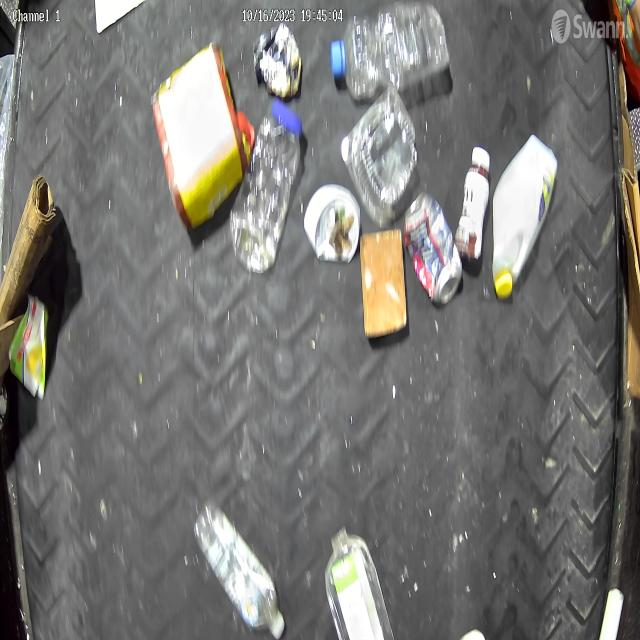can: (230, 102, 303, 274), (403, 190, 463, 306), (253, 22, 303, 100)
milk_jug: (492, 132, 558, 299)
plastic_bottle: (194, 496, 286, 640), (330, 0, 450, 100)
